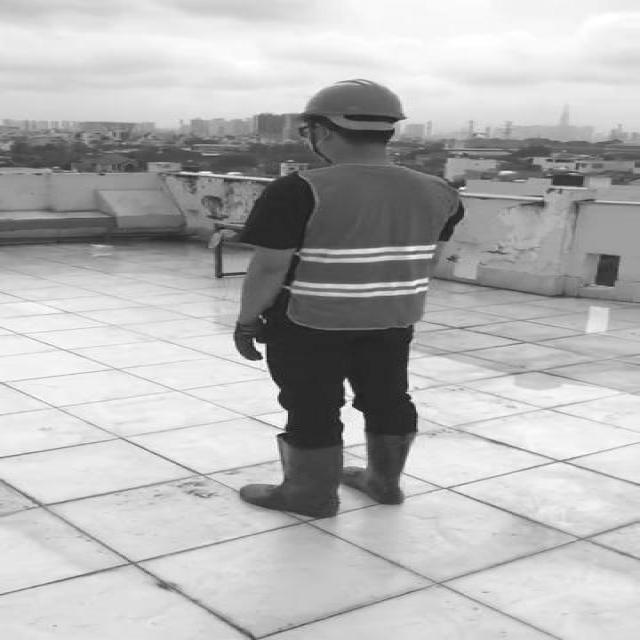boots: (242, 435, 345, 518), (345, 431, 414, 505)
hand_glove: (233, 317, 270, 360)
head_helmet: (291, 77, 413, 123)
person: (231, 76, 471, 520)
vest: (288, 162, 460, 330)
